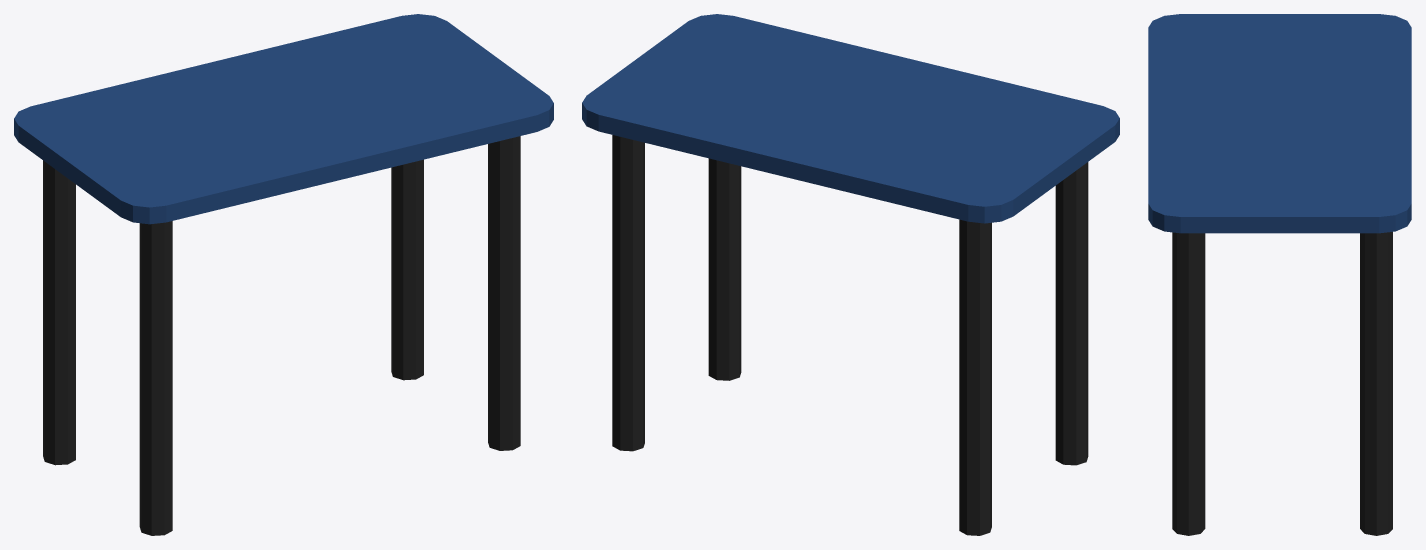
The model's file is Mesa_Pequena.fbx.
3 renders of one model, left to right at view 1: azimuth 30°, elevation 25°; view 2: azimuth 150°, elevation 25°; view 3: azimuth 270°, elevation 25°, orthographic. The views are drawn at different scales.
Parts seen in each view (by area): view 1: Mesinha.002; view 2: Mesinha.002; view 3: Mesinha.002.
Part boxes in pixels (x1,y1,x2,y2): Mesinha.002: (14, 14, 553, 535); Mesinha.002: (582, 14, 1119, 535); Mesinha.002: (1148, 14, 1411, 535).
Bounding box in the file's own units: 152 × 116 × 83.29.
